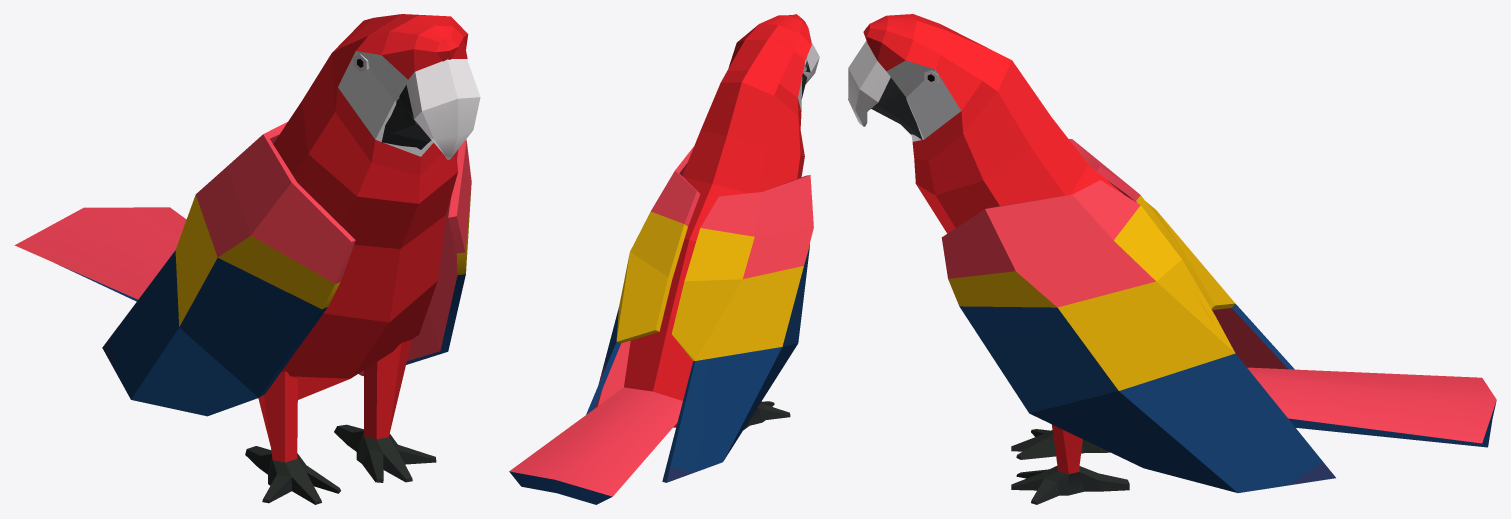
Rendered from dfNjMLtO0pd.glb.
3 renders of one model, left to right at view 1: azimuth 30°, elevation 25°; view 2: azimuth 150°, elevation 25°; view 3: azimuth 270°, elevation 25°, orthographic. The views are drawn at different scales.
Visible parts, largest first — view 1: Geo_Parrot; view 2: Geo_Parrot; view 3: Geo_Parrot.
Part boxes in pixels (box(x1,y1,x2,y2)): Geo_Parrot: box(14, 14, 480, 504); Geo_Parrot: box(509, 14, 819, 504); Geo_Parrot: box(848, 14, 1496, 504).
Size of the model in its own units: 0.4944 by 1 by 1.31.
1 material, 1 textured.
